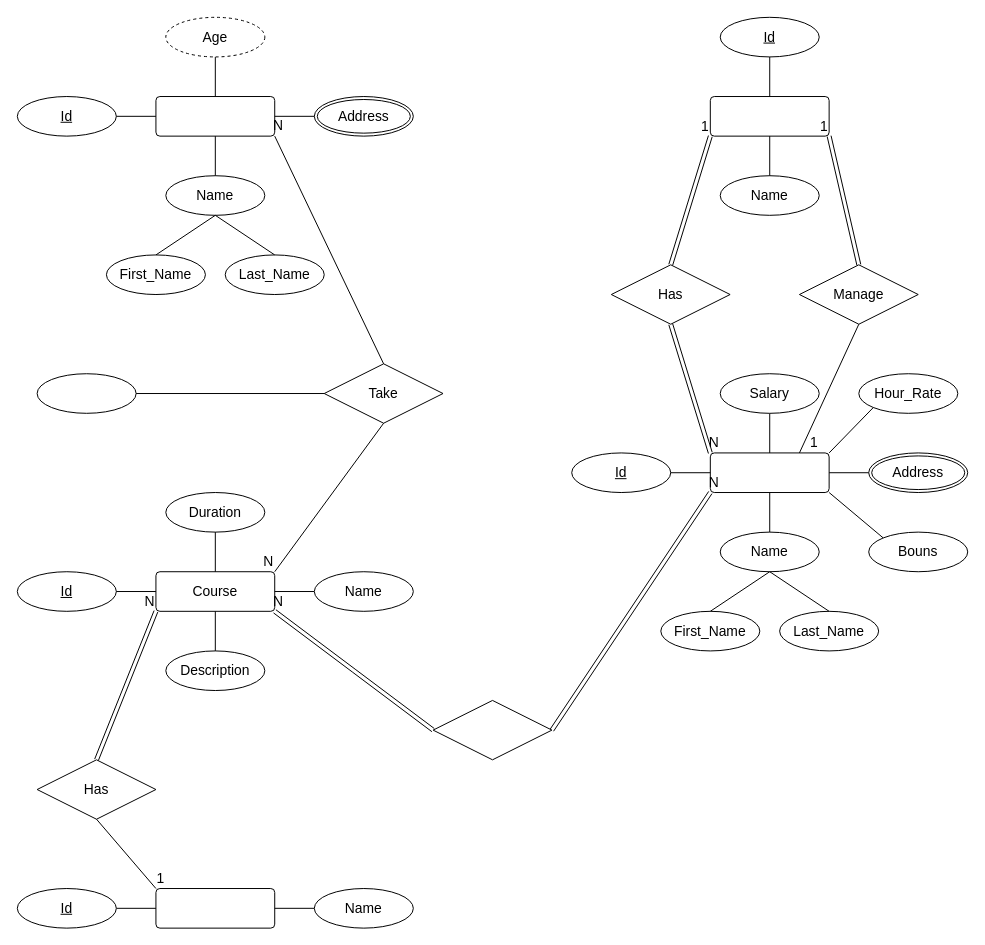
Some shapes in this 985 by 945 pixel diagram are drawn without their labels. The shapes that lost their labels are listed below. From the top down, each one's centre as x and y in pixels, then its label:
point (215, 116): Student
point (769, 116): Department
point (86, 393): Grade
point (769, 472): Instructor
point (492, 729): Teach
point (215, 908): Topic
